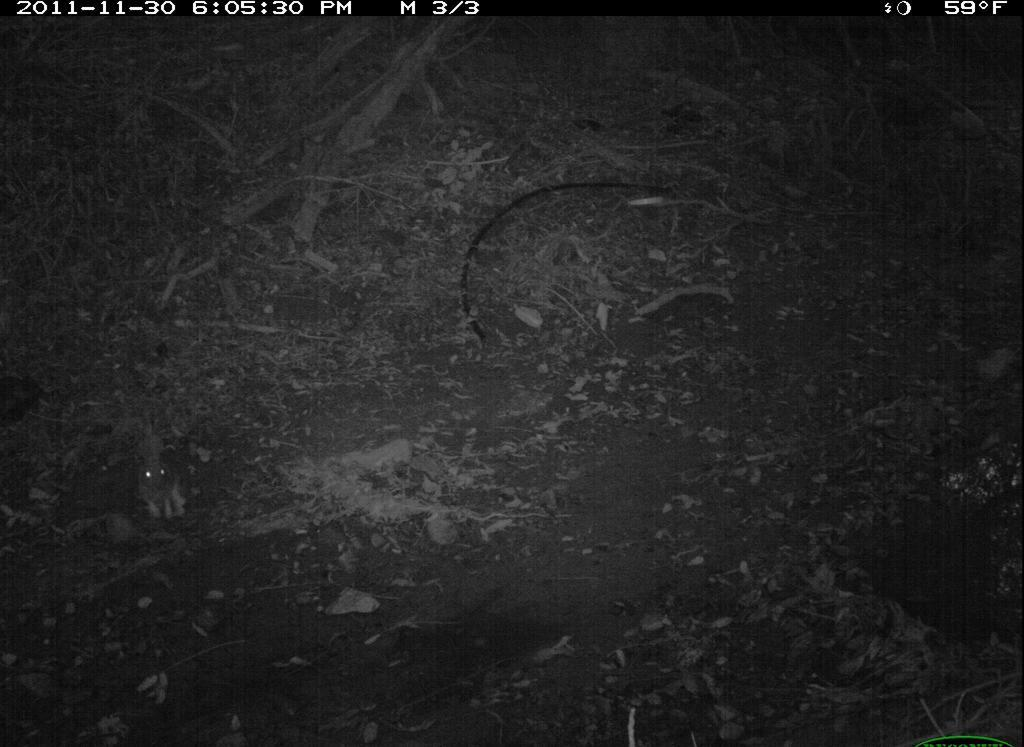rabbit: (134, 423, 194, 528)
